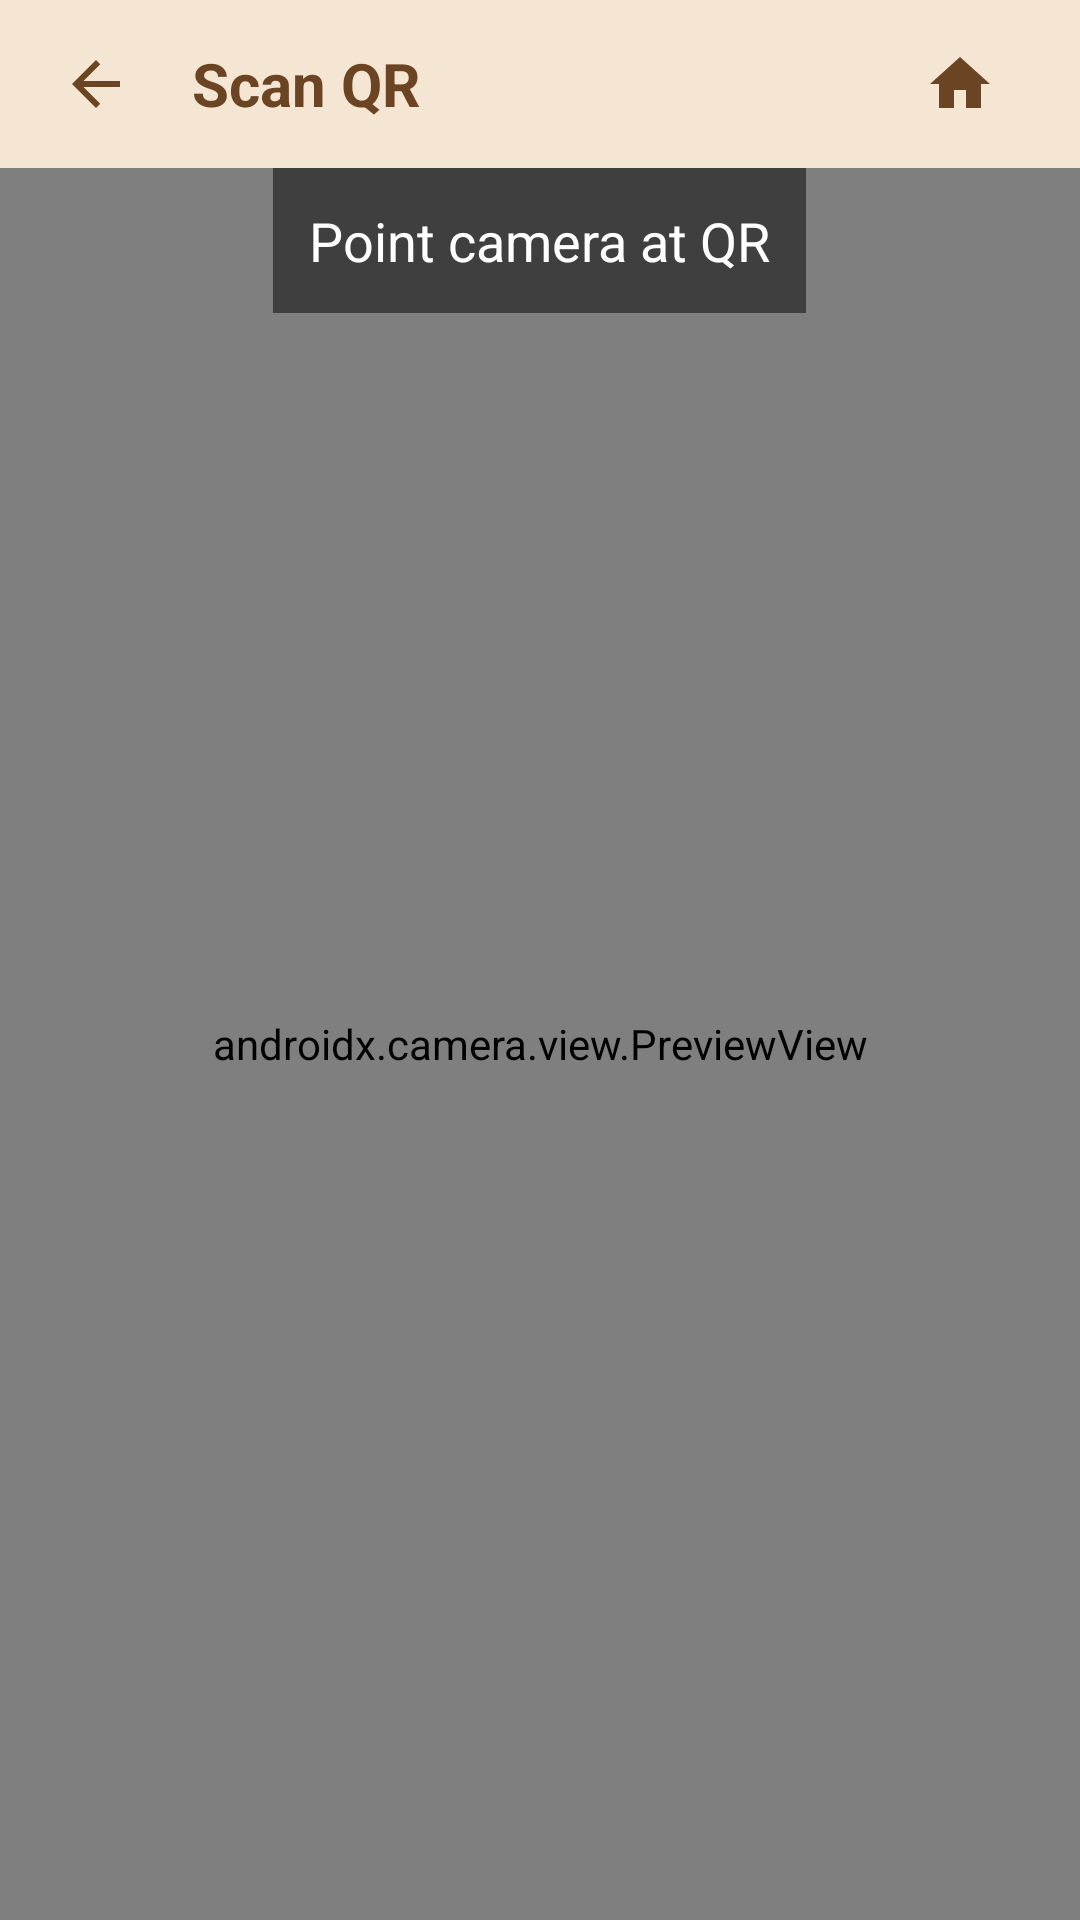

Screen size 1080w x 1920h. Icon name, then its center in pixels as point (x, y):
Back: point (96, 84)
Home: point (960, 82)
